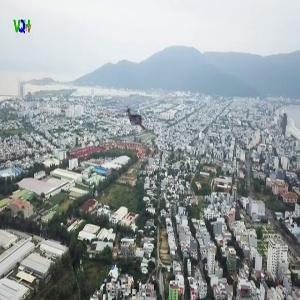drone: (115, 101, 155, 141)
